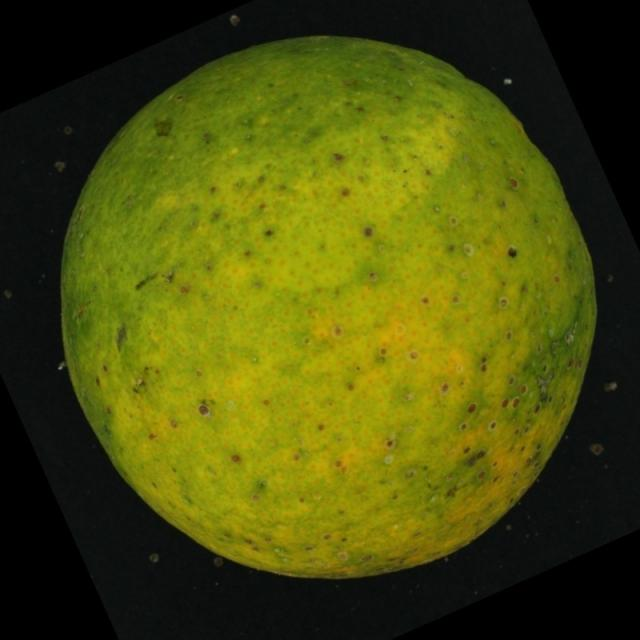grenning: (42, 22, 609, 603)
